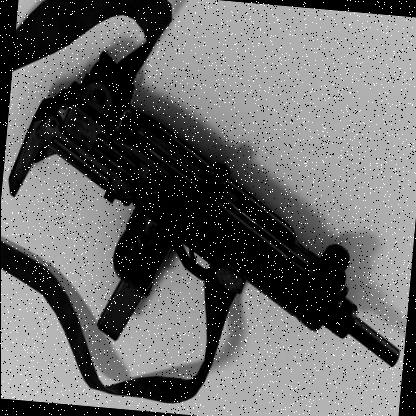rifle: (0, 46, 412, 385)
